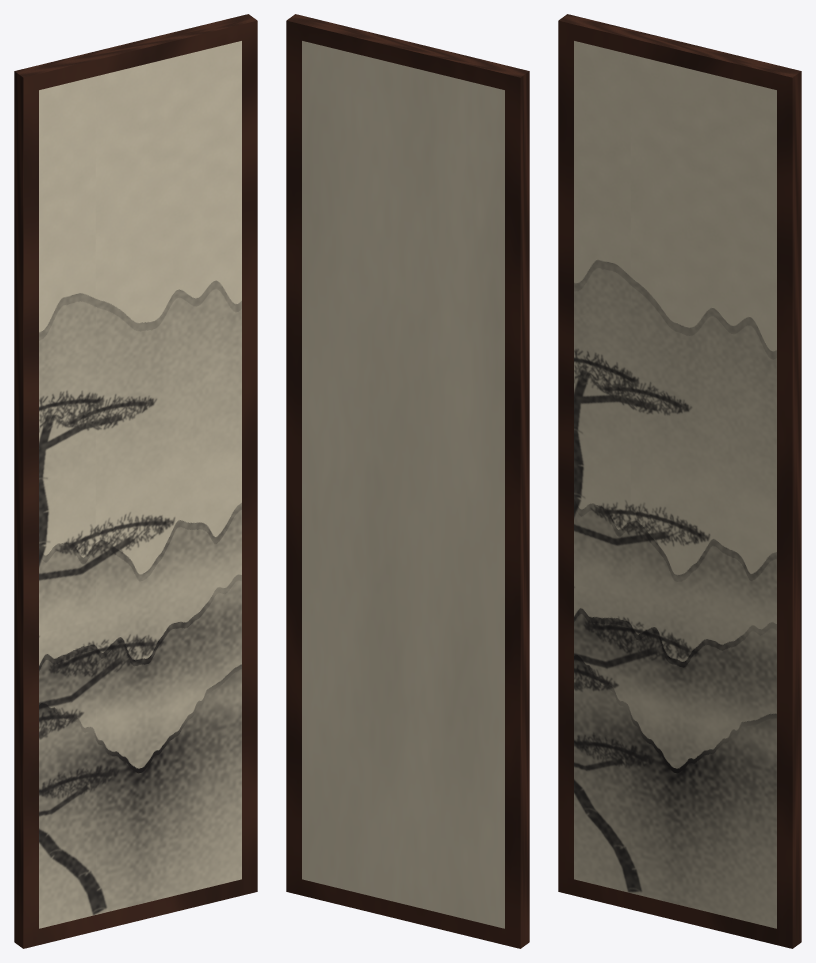
The model's file is z3_biombo_panel_2.obj.
The picture shows the model from 3 angles, left to right: view 1: azimuth 30°, elevation 25°; view 2: azimuth 150°, elevation 25°; view 3: azimuth 330°, elevation 25°; orthographic projection.
Visible parts, largest first — view 1: Cube; view 2: Cube; view 3: Cube.
Part boxes in pixels (x1,y1,x2,y2): Cube: (14,14,257,948); Cube: (286,14,529,948); Cube: (558,14,801,948).
Size of the model in its own units: 0.45 by 1.6 by 0.03.
3 materials, 3 textured.
